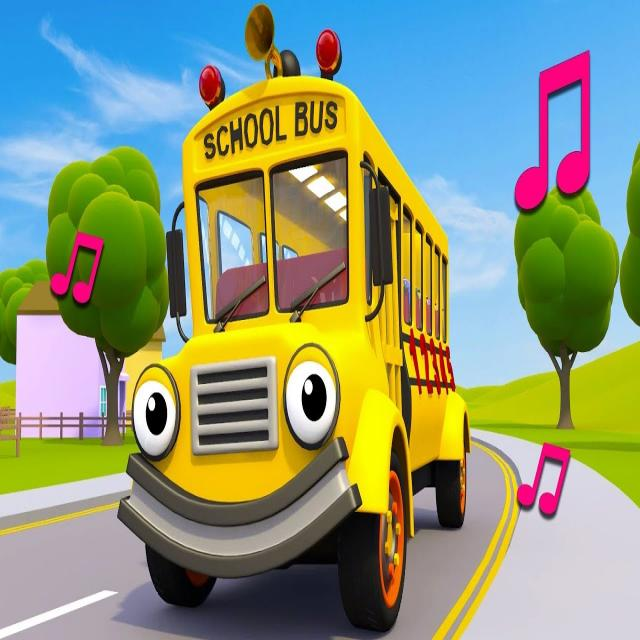bus: (116, 54, 481, 619)
